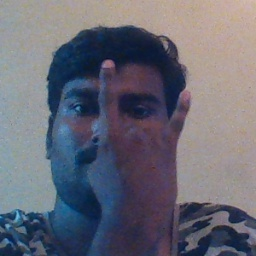V: (80, 57, 198, 227)
